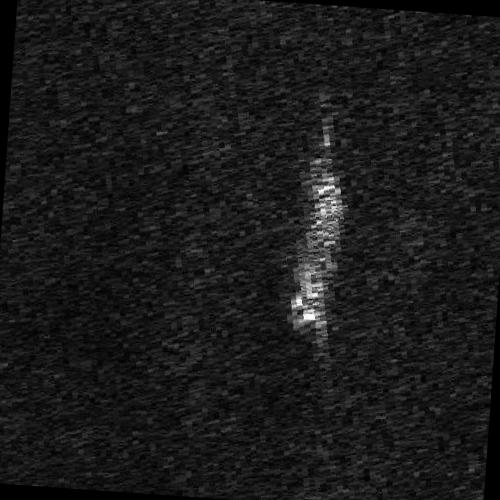ship: (287, 162, 345, 334)
